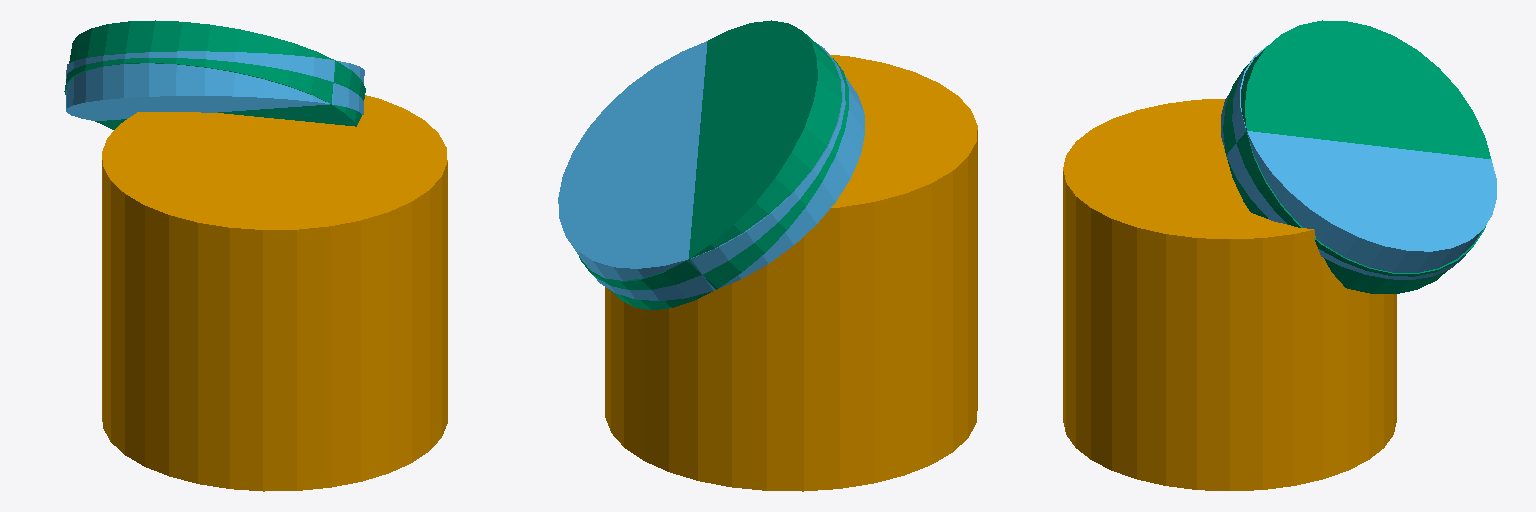
URDF robot description (pepe):
<?xml version="1.0"?><robot name="pepe">
	<link name="0">
		<visual>
			<geometry>
				<cylinder length="1.1642891994228017" radius="0.6992951786432782"/>
			</geometry>
		</visual>
		<collision>
			<geometry>
				<cylinder length="1.1642891994228017" radius="0.6992951786432782"/>
			</geometry>
		</collision>
		<inertial>
			<mass value="1.788676533677068"/>
			<inertia ixx="0.03" iyy="0.03" izz="0.03" ixy="0" ixz="0" iyx="0"/>
		</inertial>
	</link>
	<link name="11">
		<visual>
			<geometry>
				<cylinder length="0.1810605912954364" radius="0.6029070504225917"/>
			</geometry>
		</visual>
		<collision>
			<geometry>
				<cylinder length="0.1810605912954364" radius="0.6029070504225917"/>
			</geometry>
		</collision>
		<inertial>
			<mass value="0.20676381280557643"/>
			<inertia ixx="0.03" iyy="0.03" izz="0.03" ixy="0" ixz="0" iyx="0"/>
		</inertial>
	</link>
	<link name="12">
		<visual>
			<geometry>
				<cylinder length="0.1810605912954364" radius="0.6029070504225917"/>
			</geometry>
		</visual>
		<collision>
			<geometry>
				<cylinder length="0.1810605912954364" radius="0.6029070504225917"/>
			</geometry>
		</collision>
		<inertial>
			<mass value="0.20676381280557643"/>
			<inertia ixx="0.03" iyy="0.03" izz="0.03" ixy="0" ixz="0" iyx="0"/>
		</inertial>
	</link>
	<joint name="11_to_0" type="revolute">
		<parent link="0"/>
		<child link="11"/>
		<axis xyz="0 1 0"/>
		<limit effort="1" upper="-3.1415" lower="3.1415" velocity="1"/>
		<origin rpy="5.822132546509168 3.454508508838322 2.032454916630128" xyz="0.033942726515297617 0.5395934299989045 0.6510341377231116"/>
	</joint>
	<joint name="12_to_0" type="revolute">
		<parent link="0"/>
		<child link="12"/>
		<axis xyz="0 1 0"/>
		<limit effort="1" upper="-3.1415" lower="3.1415" velocity="1"/>
		<origin rpy="8.733198819763752 3.454508508838322 2.032454916630128" xyz="0.033942726515297617 0.5395934299989045 0.6510341377231116"/>
	</joint>
</robot>

--- What the picture shows (computed from the rendered views, not written in the file) ---
3 views of the same robot in one strip: view 1: azimuth 30°, elevation 25°; view 2: azimuth 150°, elevation 25°; view 3: azimuth 270°, elevation 25° (orthographic).
Robot: pepe — 3 links, 2 joints (2 revolute); root link 0; default pose: all joints at 0.
Visible links, largest first — view 1: 0, 11, 12; view 2: 0, 11, 12; view 3: 0, 12, 11.
Link boxes in pixels (left/top/right/bottom): 0: left=102, top=95, right=447, bottom=491; 11: left=66, top=51, right=364, bottom=120; 12: left=64, top=20, right=365, bottom=129; 0: left=605, top=54, right=977, bottom=491; 11: left=558, top=41, right=864, bottom=300; 12: left=579, top=20, right=848, bottom=309; 0: left=1063, top=99, right=1396, bottom=490; 12: left=1223, top=20, right=1490, bottom=293; 11: left=1221, top=46, right=1496, bottom=279.
Size in the robot's own frame: 1.4 by 1.82 by 1.71 metres.
Geometry: primitives only (box / cylinder / sphere), no mesh files.
